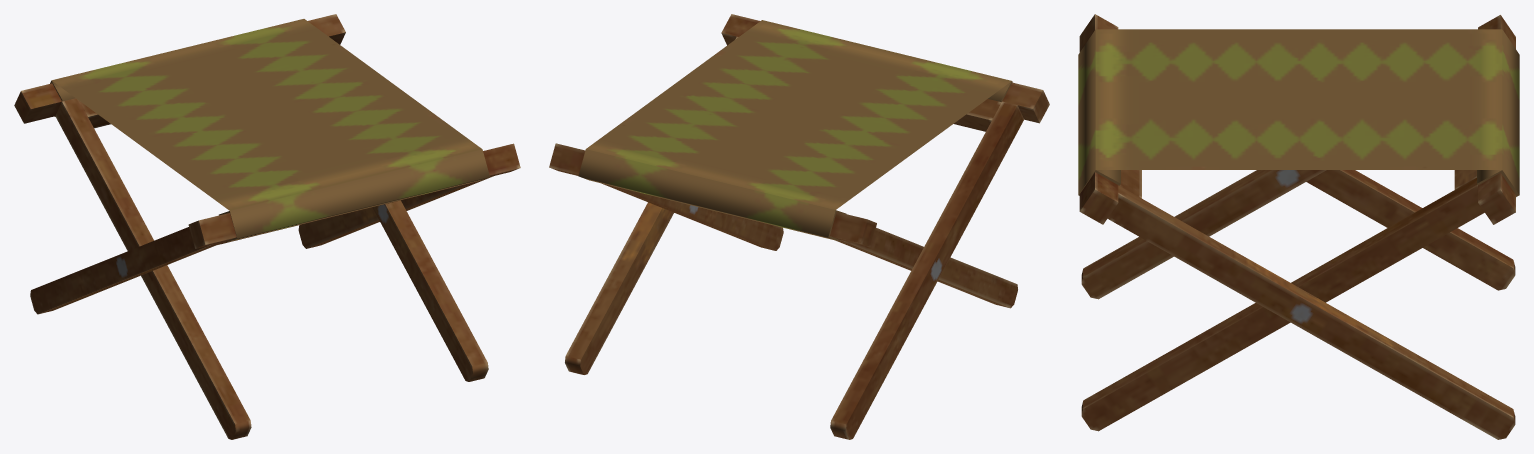
Rendered from pi_chair01_dlc1_05_02.gltf.
3 views of the same model, side by side, from view 1: azimuth 30°, elevation 25°; view 2: azimuth 150°, elevation 25°; view 3: azimuth 270°, elevation 25° (orthographic). The views are drawn at different scales.
Parts seen in each view (by area): view 1: pi_chair01_dlc1_05_02_mesh_shape:pi_chair01_dlc1_16_main; view 2: pi_chair01_dlc1_05_02_mesh_shape:pi_chair01_dlc1_16_main; view 3: pi_chair01_dlc1_05_02_mesh_shape:pi_chair01_dlc1_16_main.
Boxes of the visible parts, bbox=[...] form: pi_chair01_dlc1_05_02_mesh_shape:pi_chair01_dlc1_16_main: bbox=[14, 14, 520, 439]; pi_chair01_dlc1_05_02_mesh_shape:pi_chair01_dlc1_16_main: bbox=[549, 14, 1049, 439]; pi_chair01_dlc1_05_02_mesh_shape:pi_chair01_dlc1_16_main: bbox=[1078, 14, 1519, 439].
Size of what is drawn, in the model's own units: 0.4989 by 0.3463 by 0.53.
1 material, 1 textured.
